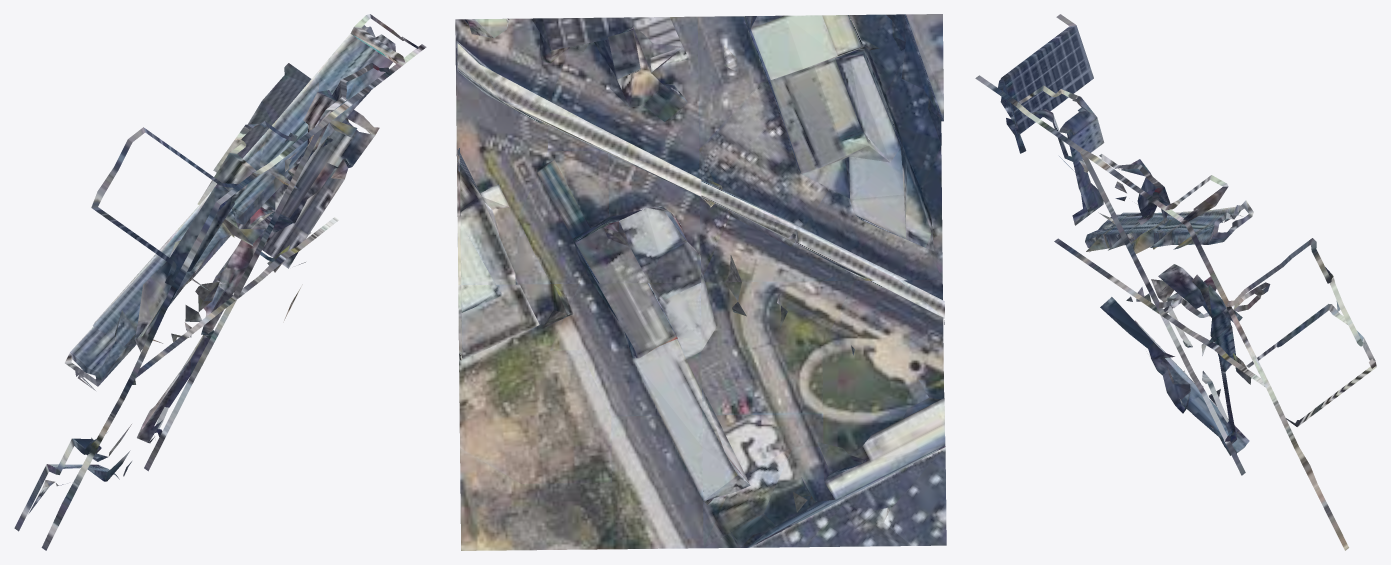
3 views of the same model, side by side, from view 1: azimuth 30°, elevation 25°; view 2: azimuth 150°, elevation 25°; view 3: azimuth 270°, elevation 25° (orthographic). The views are drawn at different scales.
Size of the model in its own units: 158 by 154 by 137.
2 materials, 2 textured.
